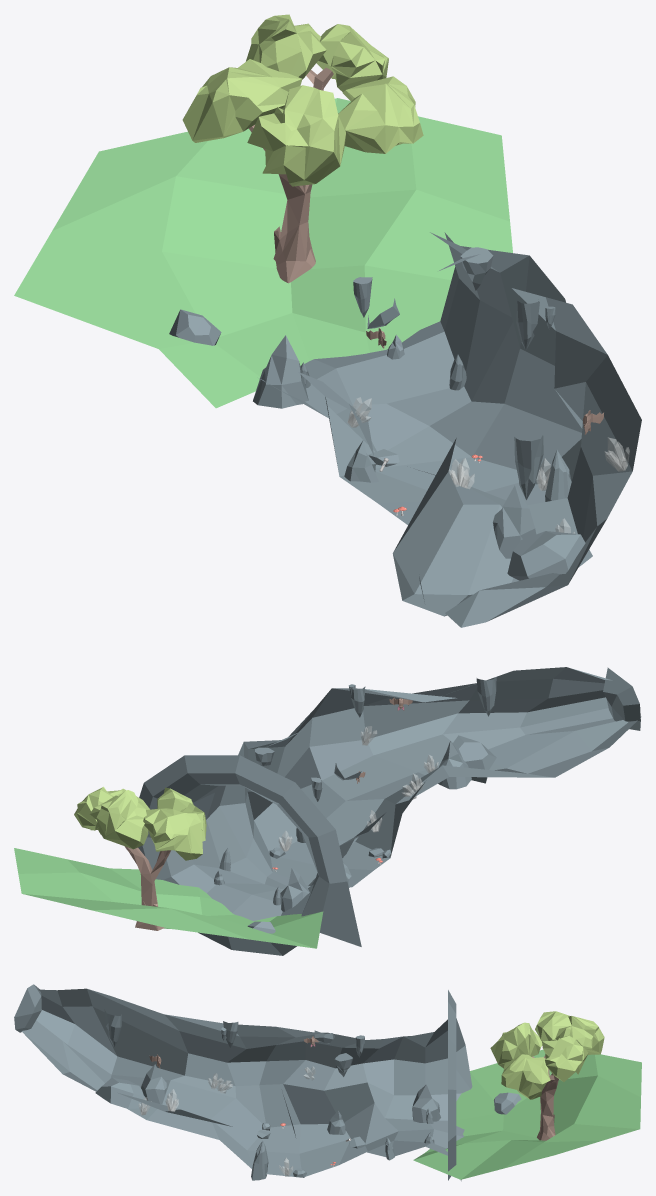
The model's file is cave.gltf.
3 views of the same model, one above another, from view 1: azimuth 30°, elevation 25°; view 2: azimuth 150°, elevation 25°; view 3: azimuth 270°, elevation 25° (orthographic). The views are drawn at different scales.
Parts seen in each view (by area): view 1: mesh96187052; view 2: mesh96187052; view 3: mesh96187052.
Boxes of the visible parts, bbox=[...] form: mesh96187052: bbox=[14, 14, 641, 627]; mesh96187052: bbox=[14, 667, 641, 955]; mesh96187052: bbox=[14, 984, 641, 1181].
Size of the model in its own units: 12.26 by 6.67 by 21.78.
